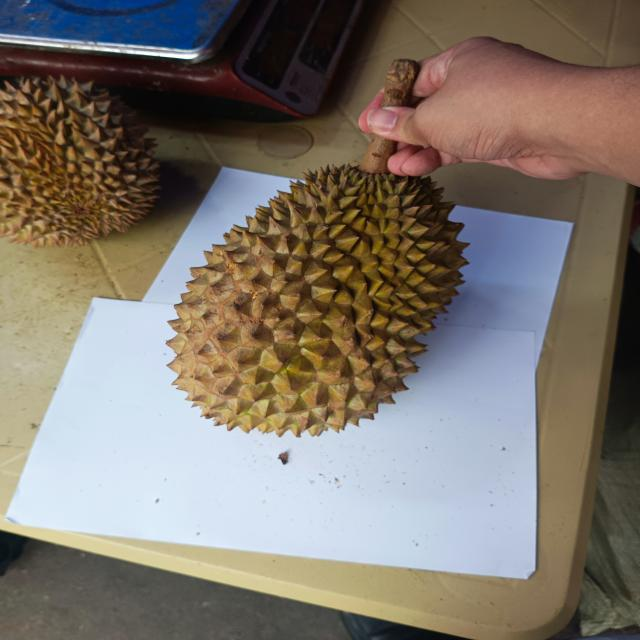mature: (164, 158, 467, 438), (0, 71, 162, 247)
